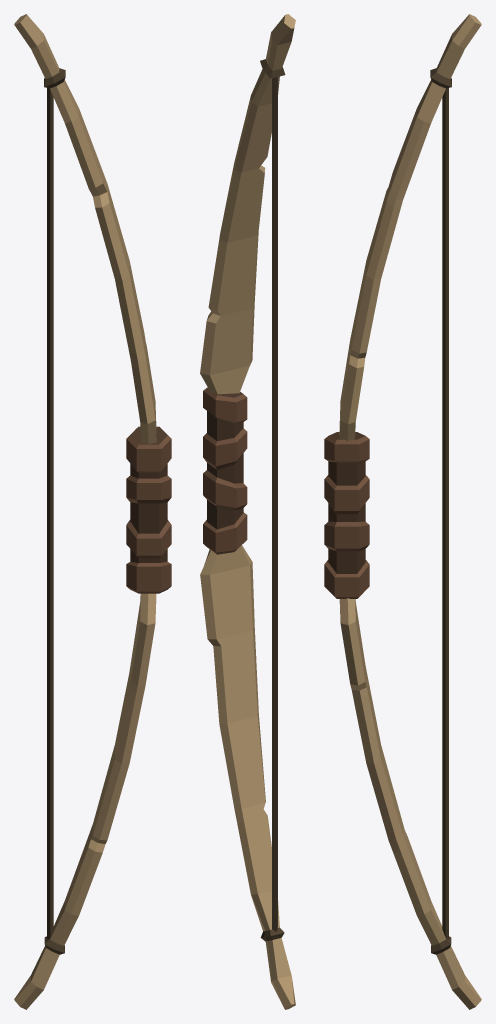
The model's file is kingdom_SM_Prop_Bow_02.gltf.
3 views of the same model, side by side, from view 1: azimuth 90°, elevation 25°; view 2: azimuth 210°, elevation 25°; view 3: azimuth 270°, elevation 25° (orthographic).
Visible parts, largest first — view 1: SM_Prop_Bow_02; view 2: SM_Prop_Bow_02; view 3: SM_Prop_Bow_02.
Boxes of the visible parts, <box> form: SM_Prop_Bow_02: <box>14,14,171,1009</box>; SM_Prop_Bow_02: <box>200,14,295,1009</box>; SM_Prop_Bow_02: <box>324,14,481,1009</box>.
Bounding box in the file's own units: 0.0803 × 1.46 × 0.2084.
1 material, 1 textured.
